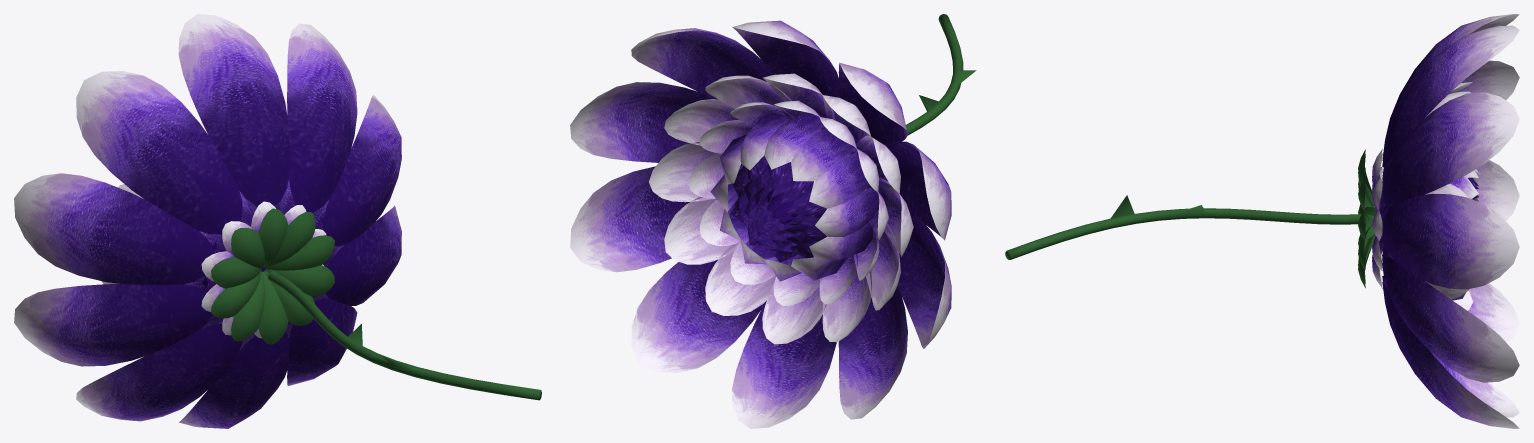
The model's file is BlueFlower.fbx.
The picture shows the model from 3 angles, left to right: view 1: azimuth 30°, elevation 25°; view 2: azimuth 150°, elevation 25°; view 3: azimuth 270°, elevation 25°; orthographic projection. The views are drawn at different scales.
Parts seen in each view (by area): view 1: Plane.002; view 2: Plane.002; view 3: Plane.002.
Part boxes in pixels (bbox=[...]): Plane.002: bbox=[14, 14, 541, 428]; Plane.002: bbox=[570, 14, 976, 428]; Plane.002: bbox=[1005, 14, 1519, 428].
Bounding box in the file's own units: 484 × 503 × 613.
1 material, 1 textured.
